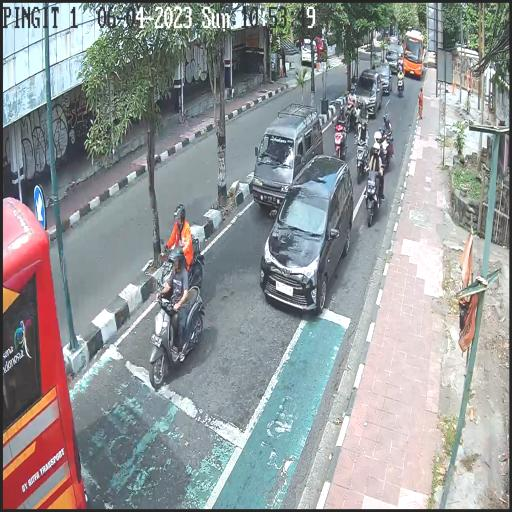mobil: (260, 151, 355, 311), (251, 102, 325, 211), (354, 67, 383, 117), (404, 29, 424, 82), (371, 59, 393, 94), (385, 47, 399, 74)
motor: (149, 278, 206, 391), (156, 238, 208, 306), (364, 167, 384, 229), (330, 118, 348, 164), (353, 134, 368, 184), (378, 130, 394, 171), (344, 100, 356, 132), (396, 77, 404, 99)
